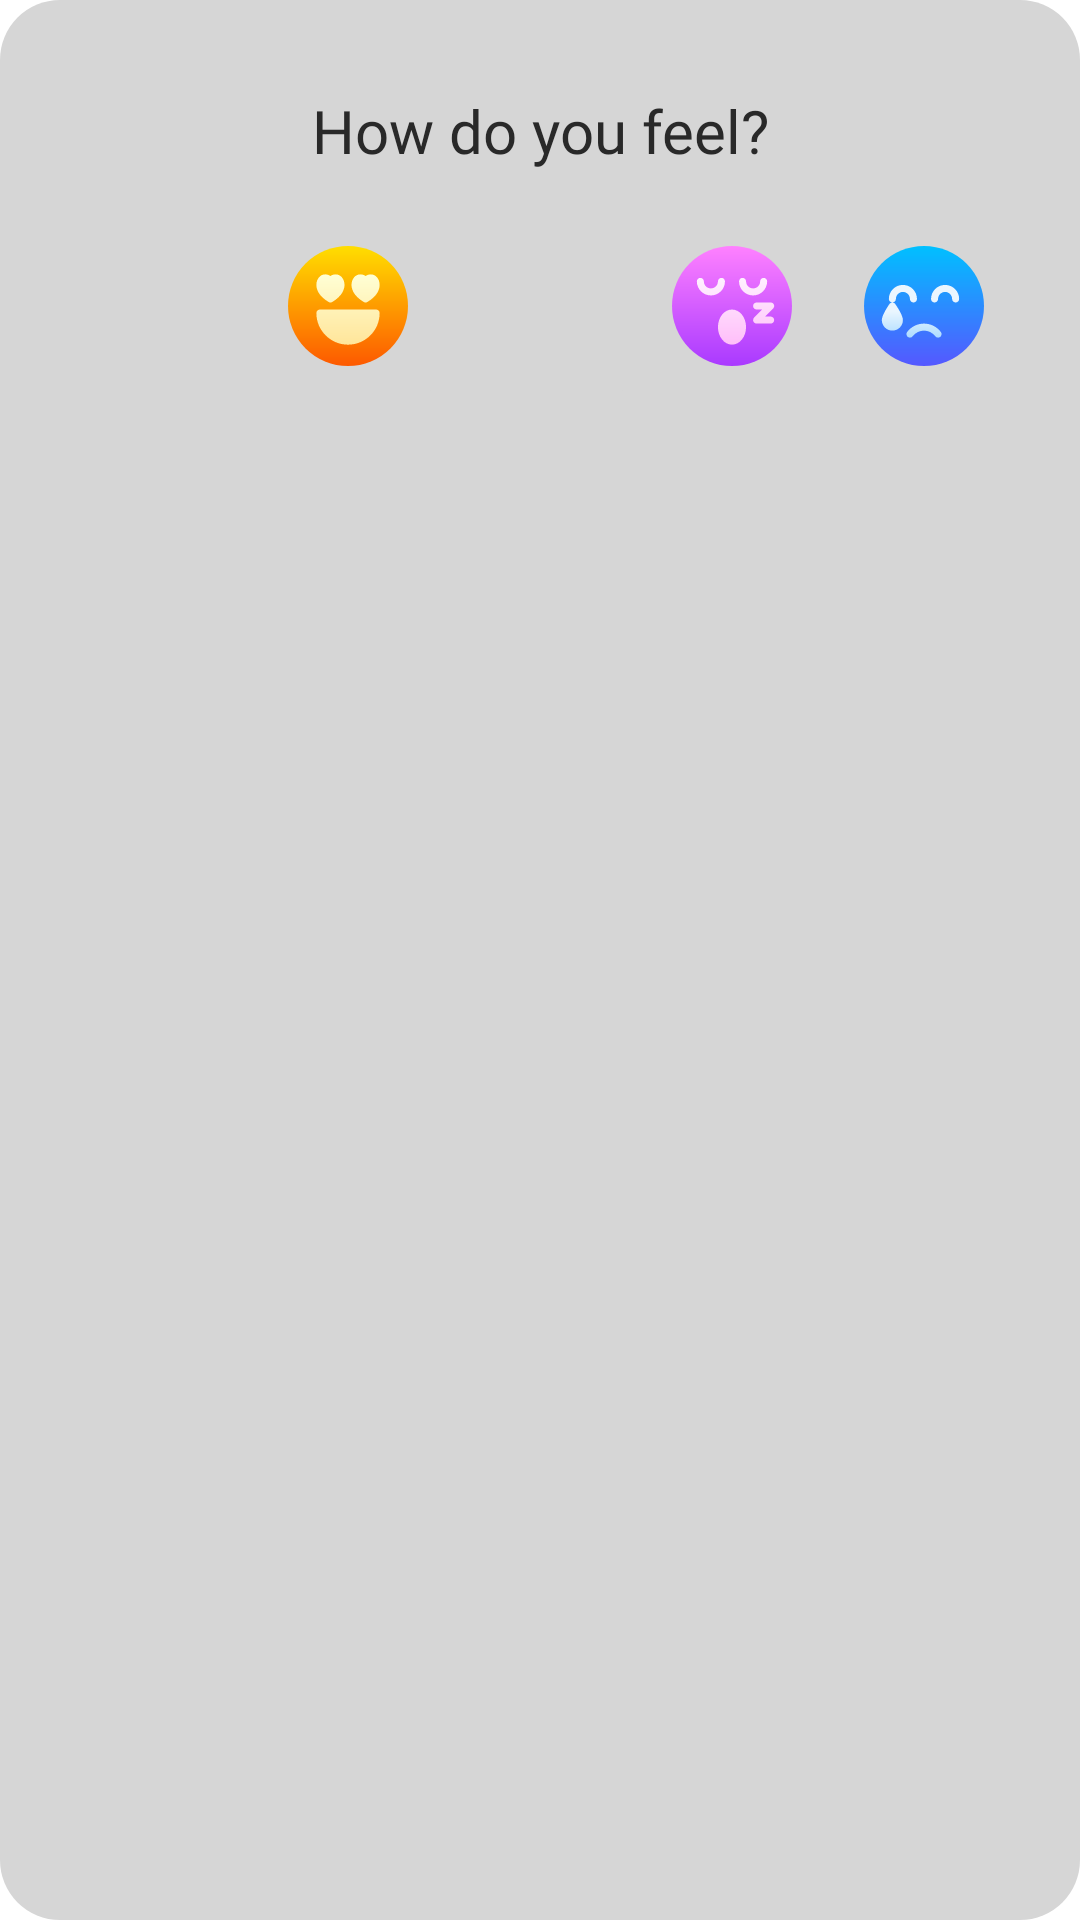

Named icons in this screenshot (1080×1920) and their bounding boxes, (x1, y1, x2, y2):
crying: (864, 246, 984, 366)
love: (288, 246, 408, 366)
sleepy: (672, 246, 792, 366)
